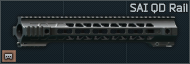AR-15 SAI 14.5 inch QD Rail handguard: (0, 0, 190, 64)
